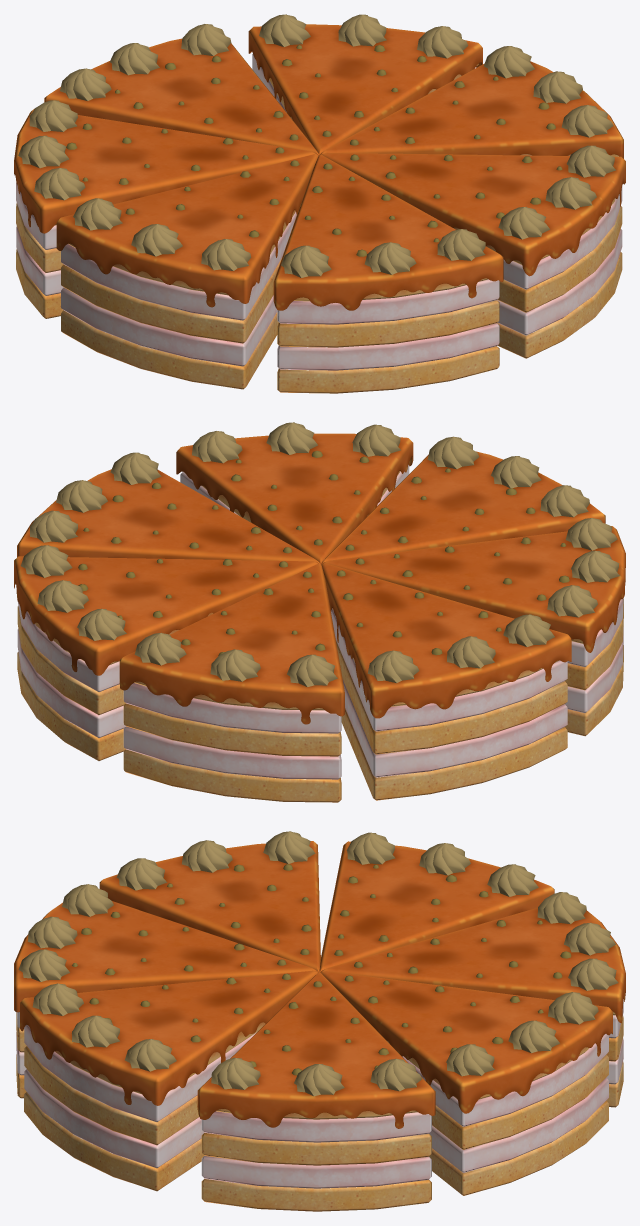
The model's file is cake 7.fbx.
3 renders of one model, top to bottom at view 1: azimuth 30°, elevation 25°; view 2: azimuth 150°, elevation 25°; view 3: azimuth 270°, elevation 25°, orthographic.
Parts seen in each view (by area): view 1: cake11, cake12, cake13, cake10, cake8, cake7, cake9; view 2: cake10, cake9, cake8, cake11, cake13, cake12, cake7; view 3: cake7, cake13, cake8, cake9, cake11, cake12, cake10.
Boxes of the visible parts, box(x1,y1,x2,y2) form: cake11: box(56, 154, 318, 389); cake12: box(273, 154, 503, 393); cake13: box(321, 145, 625, 358); cake10: box(14, 100, 318, 318); cake8: box(248, 14, 482, 154); cake7: box(320, 46, 623, 158); cake9: box(44, 24, 318, 154); cake10: box(321, 563, 571, 800); cake9: box(119, 563, 344, 802); cake8: box(14, 545, 318, 760); cake11: box(322, 518, 625, 736); cake13: box(176, 422, 413, 563); cake12: box(321, 436, 605, 563); cake7: box(17, 452, 320, 563); cake7: box(197, 972, 435, 1211); cake13: box(20, 970, 318, 1191); cake8: box(321, 971, 612, 1195); cake9: box(320, 892, 625, 1107); cake11: box(99, 831, 320, 971); cake12: box(14, 884, 318, 1098); cake10: box(319, 832, 554, 972).
Bounding box in the file's own units: 587 × 145 × 585.
